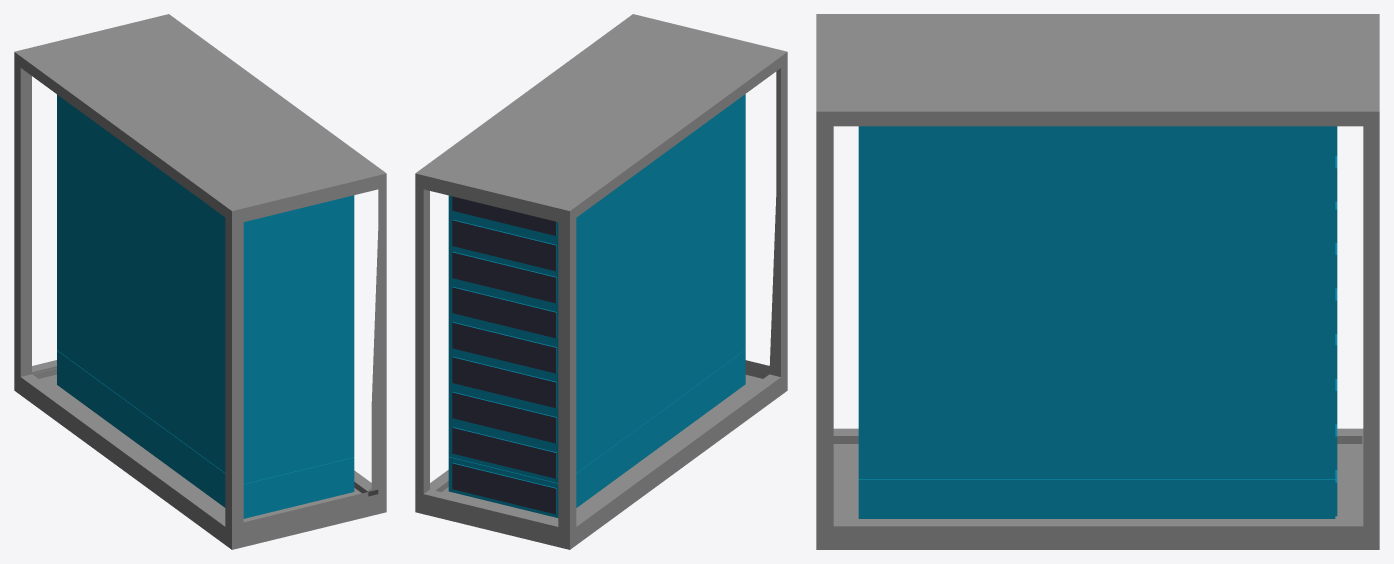
File: Server Model.FBX
3 views of the same model, side by side, from view 1: azimuth 30°, elevation 25°; view 2: azimuth 150°, elevation 25°; view 3: azimuth 270°, elevation 25° (orthographic). The views are drawn at different scales.
Visible parts, largest first — view 1: Box001, Box003, Box004, Box007, Box005, Box008, Box006, Box002, Box009, Box010; view 2: Box001, Box003, Box004, Box007, Box006, Box005, Box008, Box002, Box009, Box010; view 3: Box001, Box007, Box003, Box005, Box004, Box008, Box006, Box009, Box002, Box010.
Boxes of the visible parts, x1=… form: Box001: x1=14, y1=14, x2=386, y2=549; Box003: x1=57, y1=315, x2=354, y2=483; Box004: x1=57, y1=280, x2=354, y2=448; Box007: x1=57, y1=174, x2=354, y2=343; Box005: x1=57, y1=210, x2=354, y2=378; Box008: x1=57, y1=107, x2=354, y2=276; Box006: x1=57, y1=245, x2=354, y2=413; Box002: x1=57, y1=350, x2=354, y2=518; Box009: x1=57, y1=140, x2=354, y2=308; Box010: x1=57, y1=94, x2=354, y2=241; Box001: x1=415, y1=14, x2=787, y2=549; Box003: x1=448, y1=314, x2=745, y2=483; Box004: x1=448, y1=279, x2=745, y2=447; Box007: x1=448, y1=174, x2=745, y2=342; Box006: x1=448, y1=244, x2=745, y2=412; Box005: x1=448, y1=209, x2=745, y2=377; Box008: x1=448, y1=107, x2=745, y2=275; Box002: x1=448, y1=350, x2=745, y2=517; Box009: x1=448, y1=139, x2=745, y2=307; Box010: x1=448, y1=94, x2=745, y2=240; Box001: x1=816, y1=14, x2=1379, y2=549; Box007: x1=858, y1=243, x2=1337, y2=297; Box003: x1=858, y1=424, x2=1337, y2=478; Box005: x1=858, y1=288, x2=1337, y2=342; Box004: x1=858, y1=379, x2=1337, y2=433; Box008: x1=858, y1=156, x2=1337, y2=210; Box006: x1=858, y1=334, x2=1337, y2=387; Box009: x1=858, y1=201, x2=1337, y2=252; Box002: x1=858, y1=470, x2=1337, y2=518; Box010: x1=858, y1=126, x2=1337, y2=164.
Bounding box in the file's own units: 16.92 × 35.42 × 41.27.
